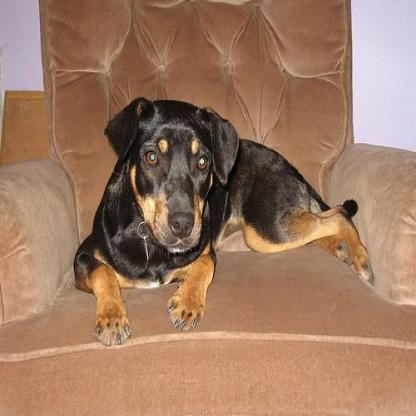Rottweiler: (72, 93, 377, 346)
